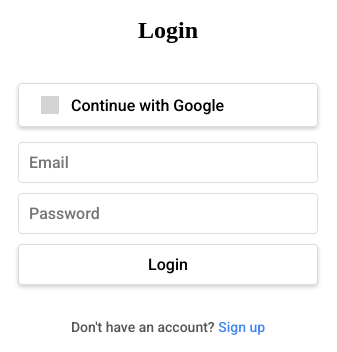
Scenario: App › renders login page and switches to register
Expected: the heading "Login" is shown, left=138, top=16, right=198, bottom=44
Expected: the button "Continue with Google" is shown, left=18, top=83, right=318, bottom=127
Click the link "Sign up" at {"x": 242, "y": 327}, box left=218, top=319, right=265, bottom=335
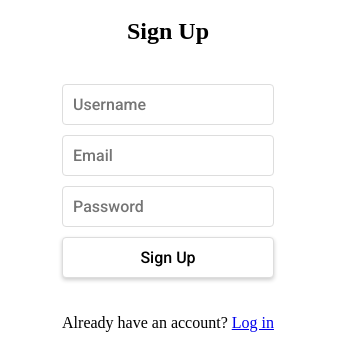
Expected: the heading "Sign Up" is shown, left=127, top=18, right=209, bottom=44
